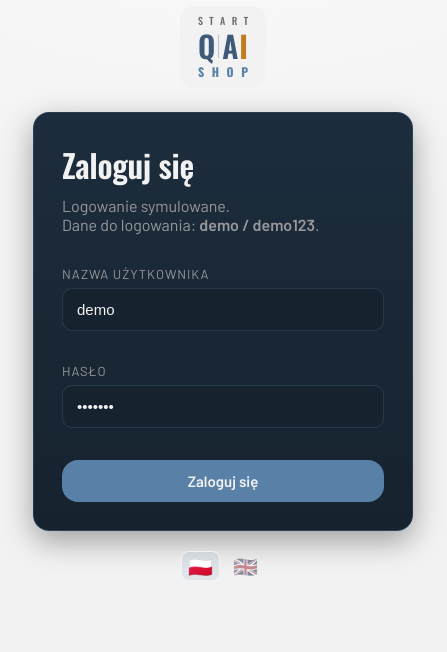
Test: LoginPage › shows an error for invalid credentials (401)
Click the button "Zaloguj się" at (223, 481), box [62, 460, 384, 502]
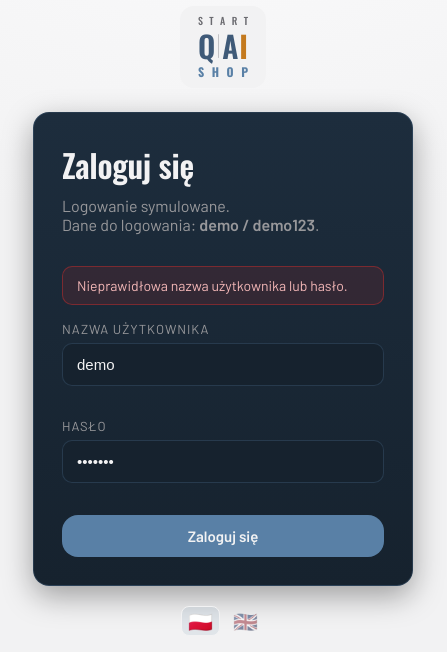
Now the text "Nieprawidłowa nazwa użytkownika lub hasło." is shown, box [62, 266, 384, 305]
